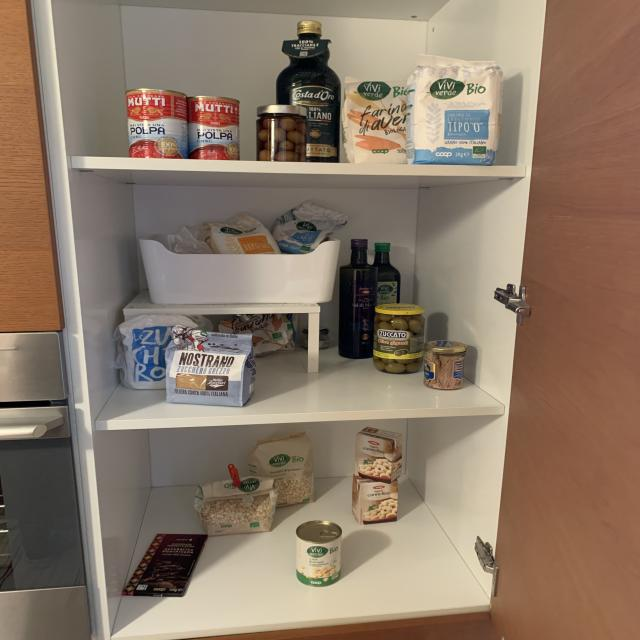beans: (355, 428, 402, 482), (353, 477, 398, 524)
chickpeas: (295, 520, 342, 586)
chocolate: (117, 534, 205, 598)
flour: (409, 55, 500, 165), (345, 78, 408, 163), (272, 201, 346, 254), (203, 214, 282, 253)
oats: (200, 478, 274, 536), (252, 437, 314, 506)
oil: (278, 20, 340, 161), (339, 238, 376, 358), (372, 241, 400, 303)
olives: (374, 314, 424, 374), (256, 116, 305, 162)
sugar: (167, 328, 256, 406), (125, 316, 193, 391)
tomato_sauce: (126, 89, 189, 159), (188, 95, 240, 161)
tuna_fish: (424, 349, 463, 388)
